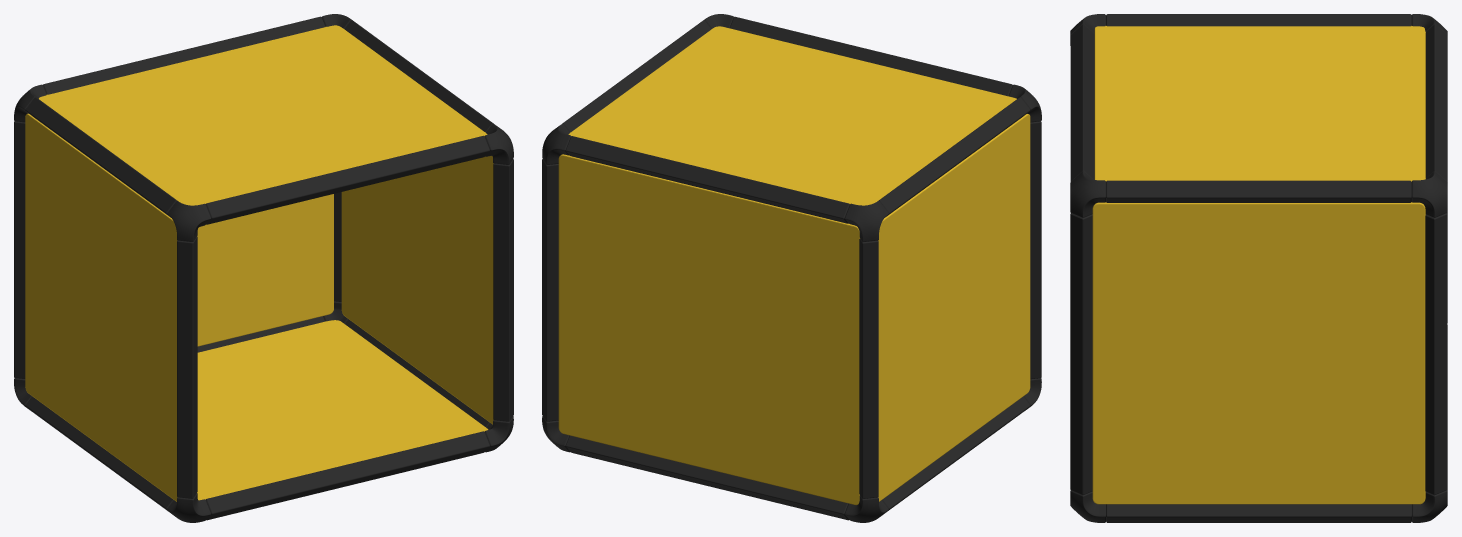
3 views of the same model, side by side, from view 1: azimuth 30°, elevation 25°; view 2: azimuth 150°, elevation 25°; view 3: azimuth 270°, elevation 25° (orthographic). The views are drawn at different scales.
Parts seen in each view (by area): view 1: 374x329x329; view 2: 374x329x329; view 3: 374x329x329.
Part boxes in pixels (x1=…): 374x329x329: x1=14, y1=14, x2=513, y2=522; 374x329x329: x1=542, y1=14, x2=1041, y2=522; 374x329x329: x1=1070, y1=14, x2=1447, y2=522.
Size of the model in its own units: 0.4517 by 0.4066 by 0.4063.
